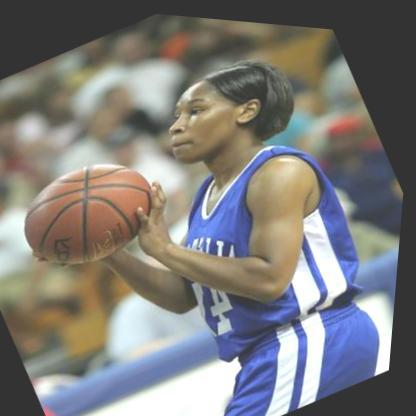basketball: (8, 131, 181, 289)
